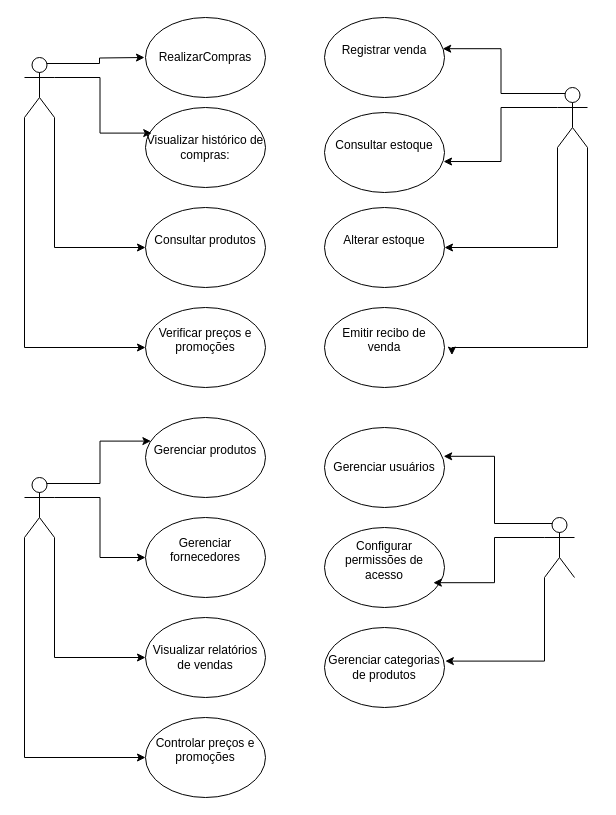
Some shapes in this 616 by 815 pixel diagram are drawn without their labels. Each missing label, with the centre of its shape:
"administrador" belongs at (x=559, y=547).
"atendente" belongs at (x=572, y=117).
"cliente" belongs at (x=39, y=87).
"gerente" belongs at (x=39, y=507).
